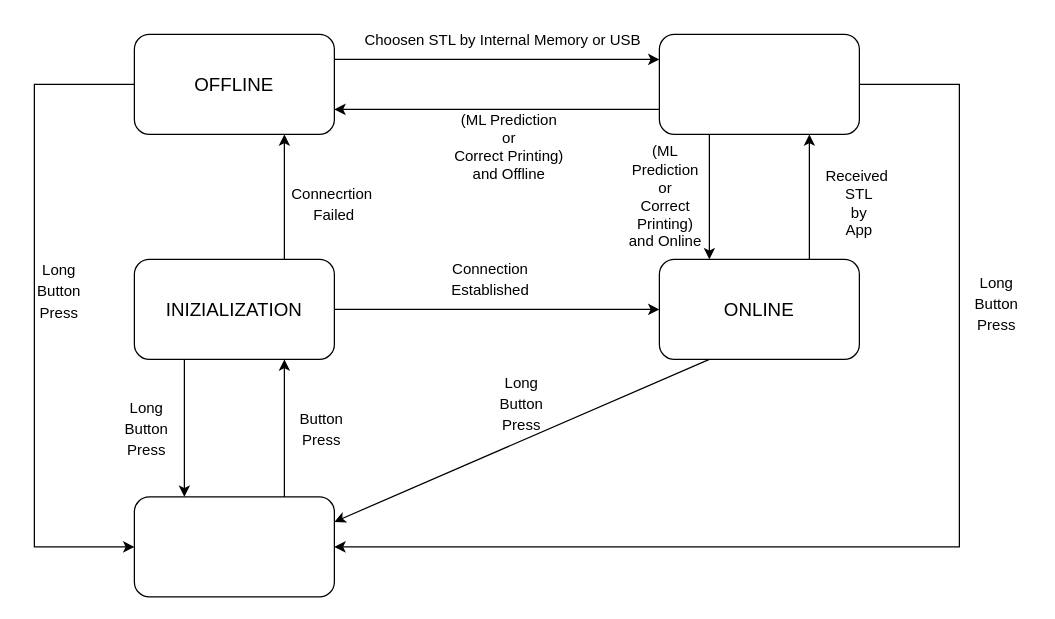
The diagram is 1055 pixels wide and 619 high, and some of its shapes have lost their labels. Here are the shapes that lost their labels. From the top down, the centre of each, then its label:
At (758,83): "PRINTING".
At (233,546): "OFF".
